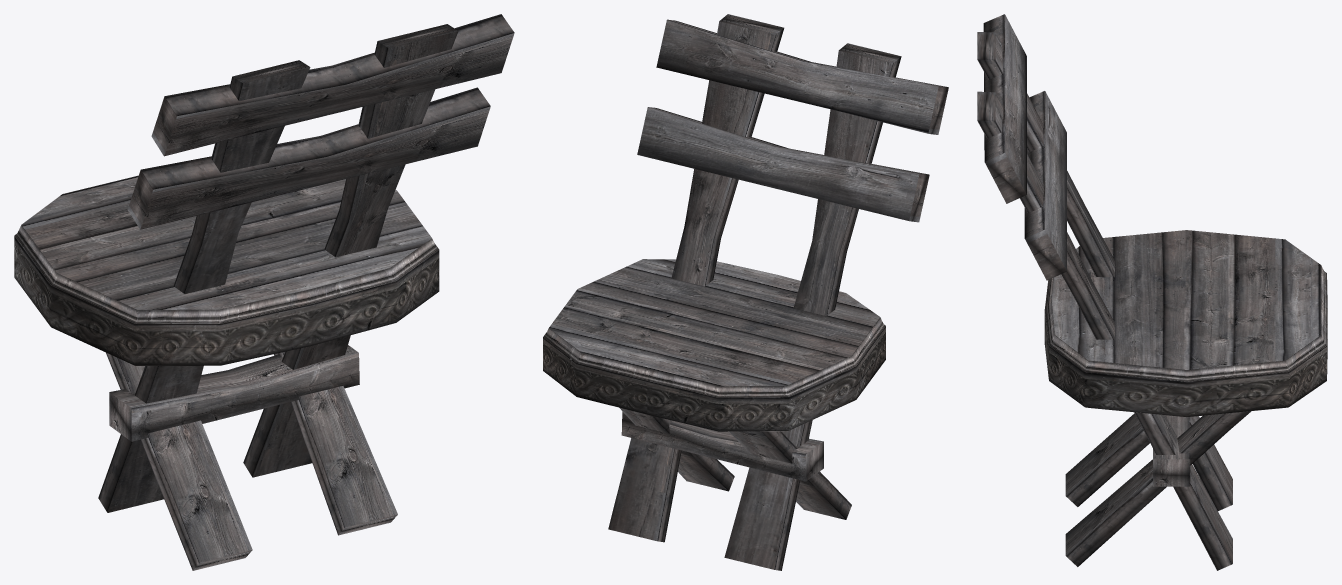
Rendered from tavern_chair.fbx.
The picture shows the model from 3 angles, left to right: view 1: azimuth 30°, elevation 25°; view 2: azimuth 150°, elevation 25°; view 3: azimuth 270°, elevation 25°; orthographic projection. The views are drawn at different scales.
Visible parts, largest first — view 1: Default_Layer; view 2: Default_Layer; view 3: Default_Layer.
Boxes of the visible parts, x1,y1,x2,y2 form: Default_Layer: (14,14,514,570); Default_Layer: (543,14,948,570); Default_Layer: (977,14,1327,570).
Size of the model in its own units: 114 by 166 by 117.
1 material, 1 textured.
